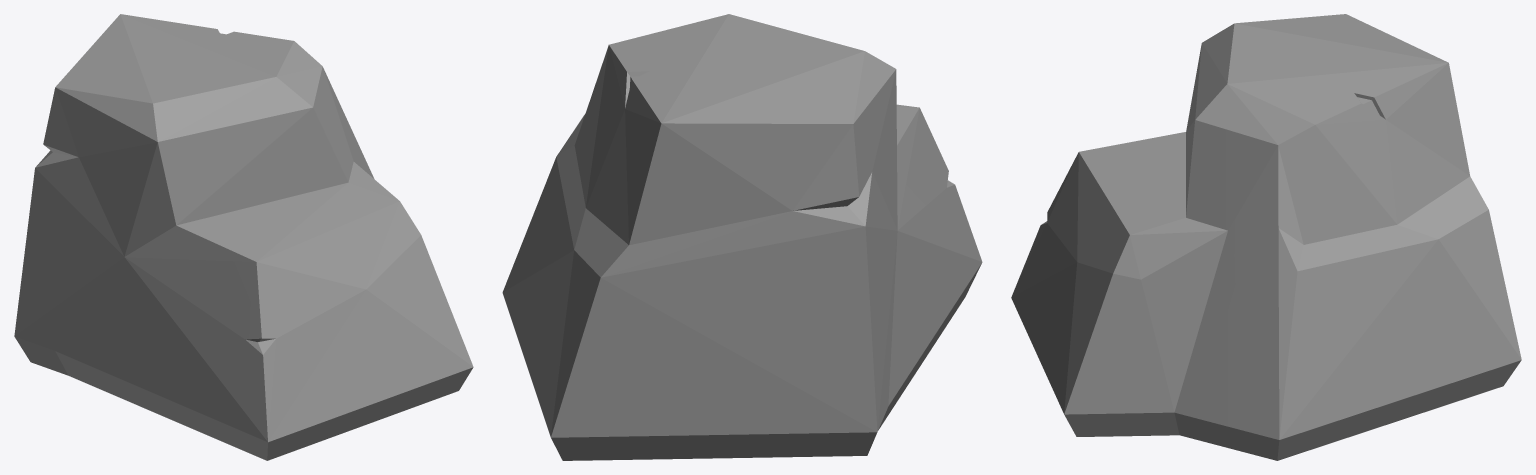
The model's file is rock__rock9_natural_light.glb.
3 renders of one model, left to right at view 1: azimuth 30°, elevation 25°; view 2: azimuth 150°, elevation 25°; view 3: azimuth 270°, elevation 25°, orthographic. The views are drawn at different scales.
Parts seen in each view (by area): view 1: rock9.natural.light; view 2: rock9.natural.light; view 3: rock9.natural.light.
Boxes of the visible parts, bbox=[...] form: rock9.natural.light: bbox=[14, 14, 473, 460]; rock9.natural.light: bbox=[502, 14, 982, 460]; rock9.natural.light: bbox=[1011, 14, 1521, 460].
Bounding box in the file's own units: 2.32 × 1.76 × 2.73.
1 material, 1 textured.
